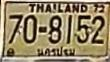0: (22, 14, 36, 42)
1: (66, 15, 72, 43)
2: (91, 15, 104, 43)
5: (76, 14, 90, 43)
7: (8, 14, 22, 43)
8: (48, 14, 61, 42)
NPT: (33, 45, 77, 59)
